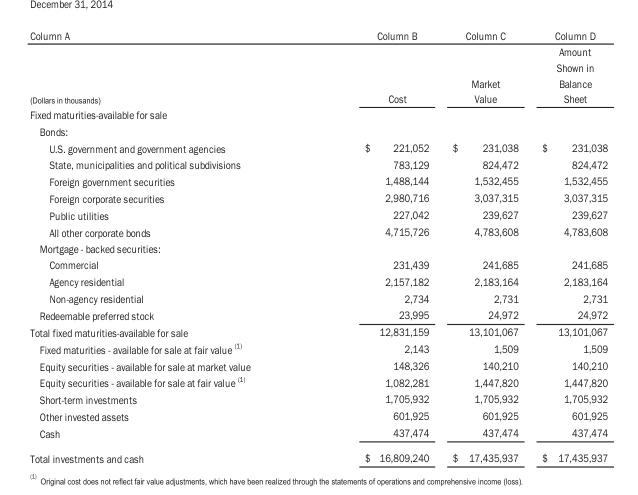table: (29, 28, 607, 464)
table column: (29, 28, 307, 464), (307, 28, 440, 464), (440, 28, 529, 464), (529, 28, 607, 464)
table column header: (29, 28, 607, 106)
table projected row header: (29, 106, 607, 122), (29, 122, 607, 138), (29, 240, 607, 256)
table row: (29, 28, 607, 106), (29, 423, 607, 444), (29, 444, 607, 464), (29, 222, 607, 240), (29, 138, 607, 155), (29, 155, 607, 172), (29, 172, 607, 189), (29, 189, 607, 206), (29, 272, 607, 289), (29, 289, 607, 306), (29, 306, 607, 323), (29, 339, 607, 356), (29, 356, 607, 373), (29, 373, 607, 390), (29, 390, 607, 407), (29, 106, 607, 122), (29, 122, 607, 138), (29, 206, 607, 222), (29, 240, 607, 256), (29, 256, 607, 272), (29, 323, 607, 339), (29, 407, 607, 423)
